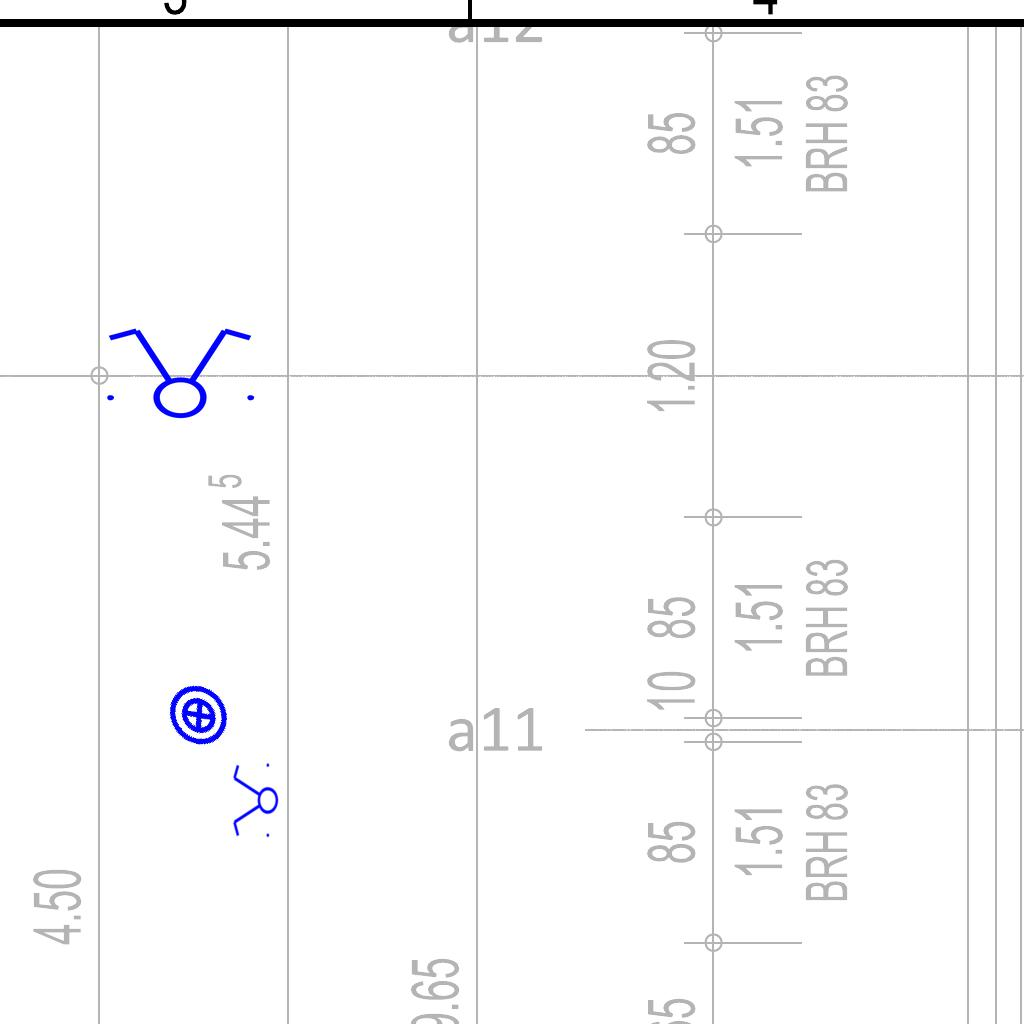Serienschalter: (95, 324, 263, 420), (231, 759, 279, 843)
Taster_beleuchtet: (152, 668, 246, 762)
